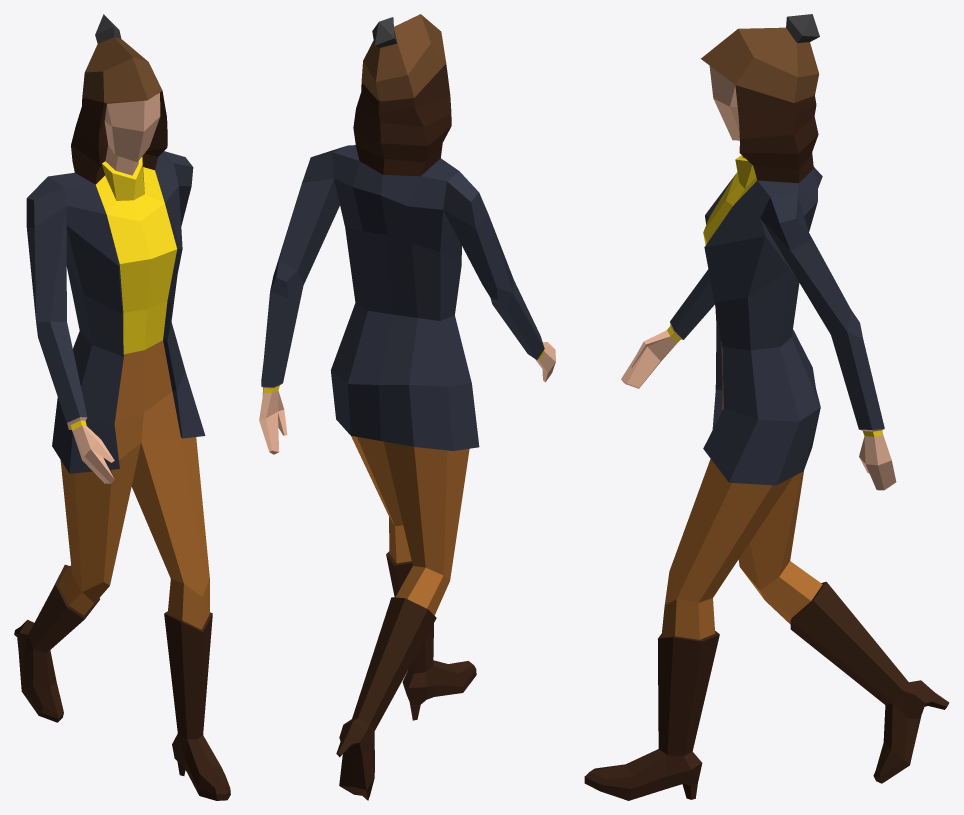
Rendered from AutumnWomanB.005.glb.
The picture shows the model from 3 angles, left to right: view 1: azimuth 30°, elevation 25°; view 2: azimuth 150°, elevation 25°; view 3: azimuth 270°, elevation 25°; orthographic projection. The views are drawn at different scales.
Visible parts, largest first — view 1: AutumnWomanB.005; view 2: AutumnWomanB.005; view 3: AutumnWomanB.005.
Part boxes in pixels (x1,y1,x2,y2): AutumnWomanB.005: (14, 14, 230, 800); AutumnWomanB.005: (259, 14, 555, 800); AutumnWomanB.005: (584, 14, 949, 800).
Bounding box in the file's own units: 0.4568 × 1.71 × 0.7309.
1 material, 1 textured.
